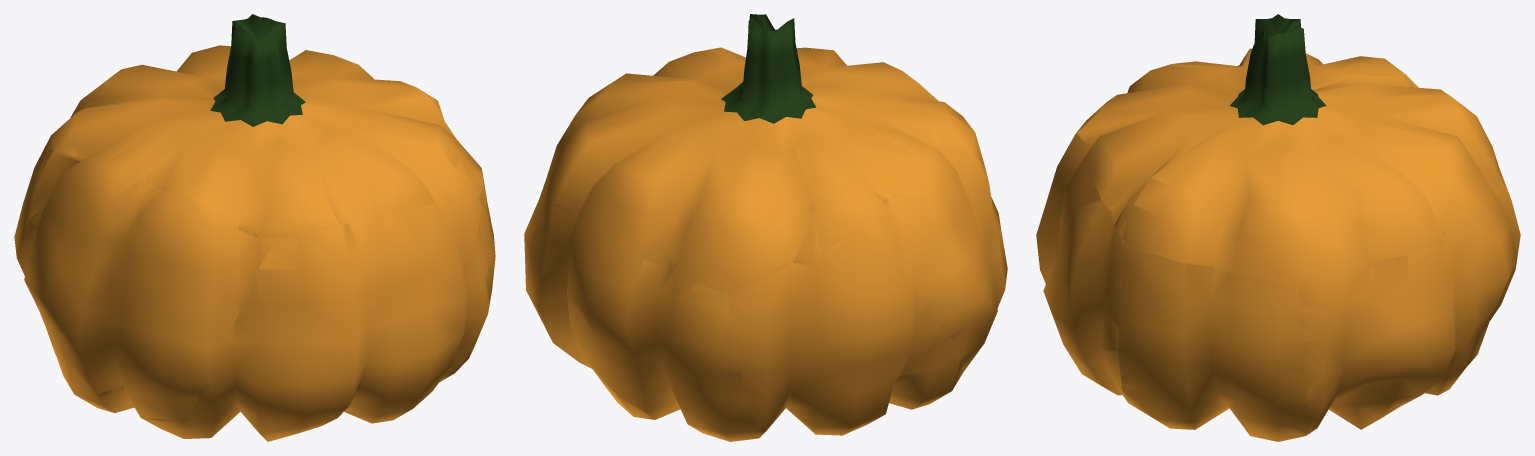
Rendered from Pumpkin.fbx.
3 views of the same model, side by side, from view 1: azimuth 30°, elevation 25°; view 2: azimuth 150°, elevation 25°; view 3: azimuth 270°, elevation 25° (orthographic).
Visible parts, largest first — view 1: Pumpkin, Pumpkin_cell.005, Pumpkin_cell.004, Pumpkin_cell.006, Pumpkin_cell.002, Pumpkin_cell.007, Pumpkin_cell; view 2: Pumpkin, Pumpkin_cell.002, Pumpkin_cell.005, Pumpkin_cell.007, Pumpkin_cell.003, Pumpkin_cell.006; view 3: Pumpkin, Pumpkin_cell.002, Pumpkin_cell, Pumpkin_cell.005, Pumpkin_cell.004, Pumpkin_cell.003.
Boxes of the visible parts, box(x1,y1,x2,y2) form: Pumpkin: box(14, 21, 495, 441); Pumpkin_cell.005: box(45, 24, 471, 244); Pumpkin_cell.004: box(184, 199, 489, 441); Pumpkin_cell.006: box(28, 149, 266, 424); Pumpkin_cell.002: box(70, 14, 482, 185); Pumpkin_cell.007: box(16, 147, 187, 438); Pumpkin_cell: box(446, 172, 495, 373); Pumpkin: box(524, 14, 1007, 441); Pumpkin_cell.002: box(547, 14, 819, 293); Pumpkin_cell.005: box(725, 16, 949, 248); Pumpkin_cell.007: box(728, 231, 950, 434); Pumpkin_cell.003: box(525, 158, 762, 438); Pumpkin_cell.006: box(868, 106, 1004, 358); Pumpkin: box(1036, 14, 1520, 441); Pumpkin_cell.002: box(1134, 19, 1498, 286); Pumpkin_cell: box(1118, 243, 1310, 441); Pumpkin_cell.005: box(1077, 14, 1405, 236); Pumpkin_cell.004: box(1036, 131, 1124, 393); Pumpkin_cell.003: box(1298, 167, 1516, 432).
Size of the model in its own units: 314 by 245 by 316.
